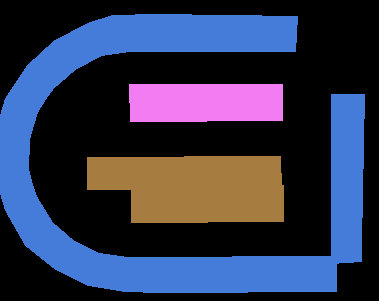parkingspot: (0, 14, 336, 292), (87, 156, 281, 189), (129, 84, 282, 121), (131, 185, 283, 222), (331, 94, 364, 263)
